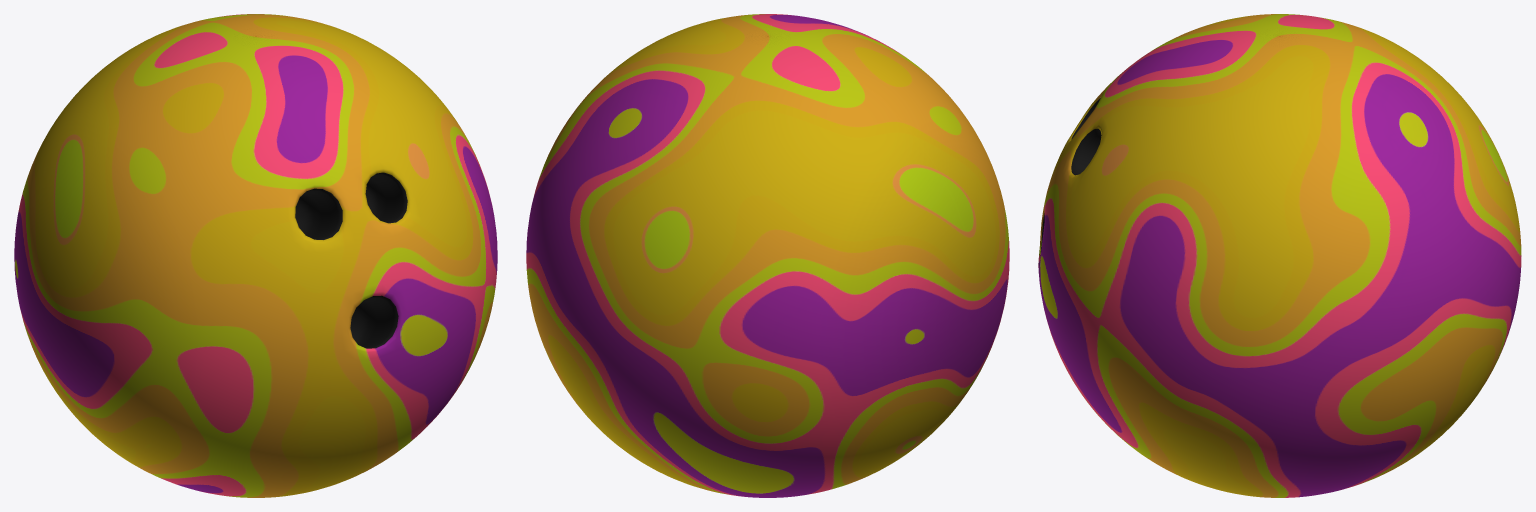
The model's file is OrangeBowlingBall.glb.
3 renders of one model, left to right at view 1: azimuth 30°, elevation 25°; view 2: azimuth 150°, elevation 25°; view 3: azimuth 270°, elevation 25°, orthographic.
Parts seen in each view (by area): view 1: Sphere.001; view 2: Sphere.001; view 3: Sphere.001.
Part boxes in pixels (box(x1,y1,x2,y2)): Sphere.001: box(14, 14, 497, 497); Sphere.001: box(526, 14, 1009, 497); Sphere.001: box(1038, 14, 1521, 497).
Bounding box in the file's own units: 1.99 × 2 × 1.99.
Materials: 2 (1 with a texture image).
